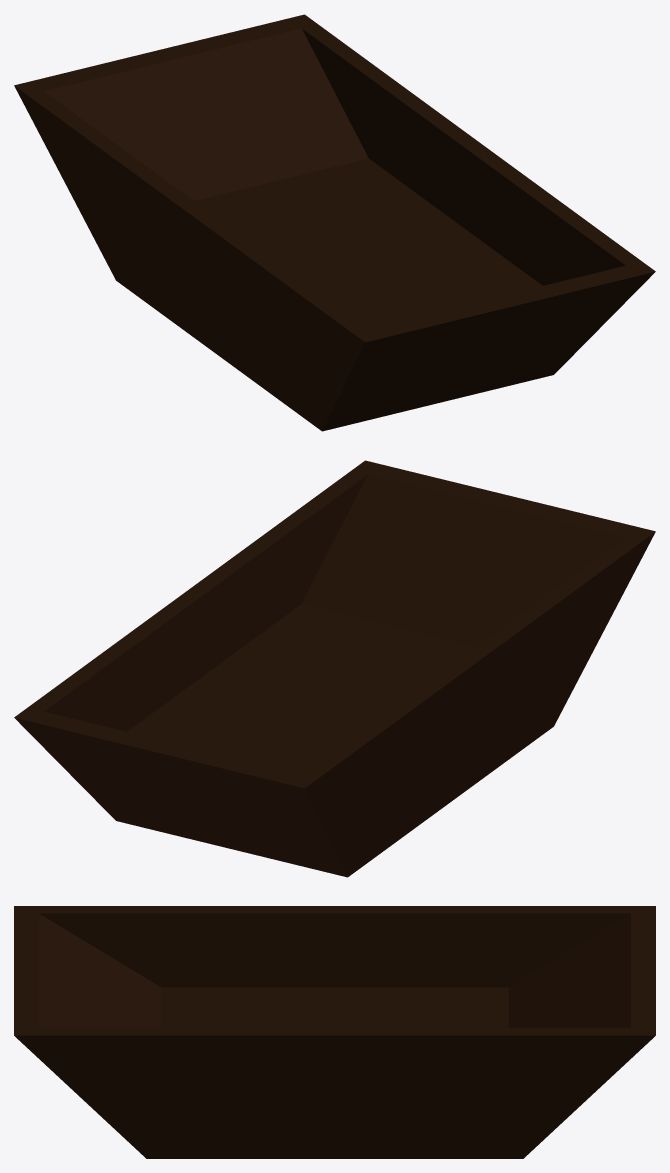
The model's file is miska2.fbx.
3 views of the same model, one above another, from view 1: azimuth 30°, elevation 25°; view 2: azimuth 150°, elevation 25°; view 3: azimuth 270°, elevation 25° (orthographic). The views are drawn at different scales.
Visible parts, largest first — view 1: Box083; view 2: Box083; view 3: Box083.
Boxes of the visible parts, x1,y1,x2,y2 form: Box083: [14, 14, 655, 431]; Box083: [14, 460, 655, 877]; Box083: [14, 906, 655, 1158].
Size of the model in its own units: 15.11 by 7.42 by 31.62.
